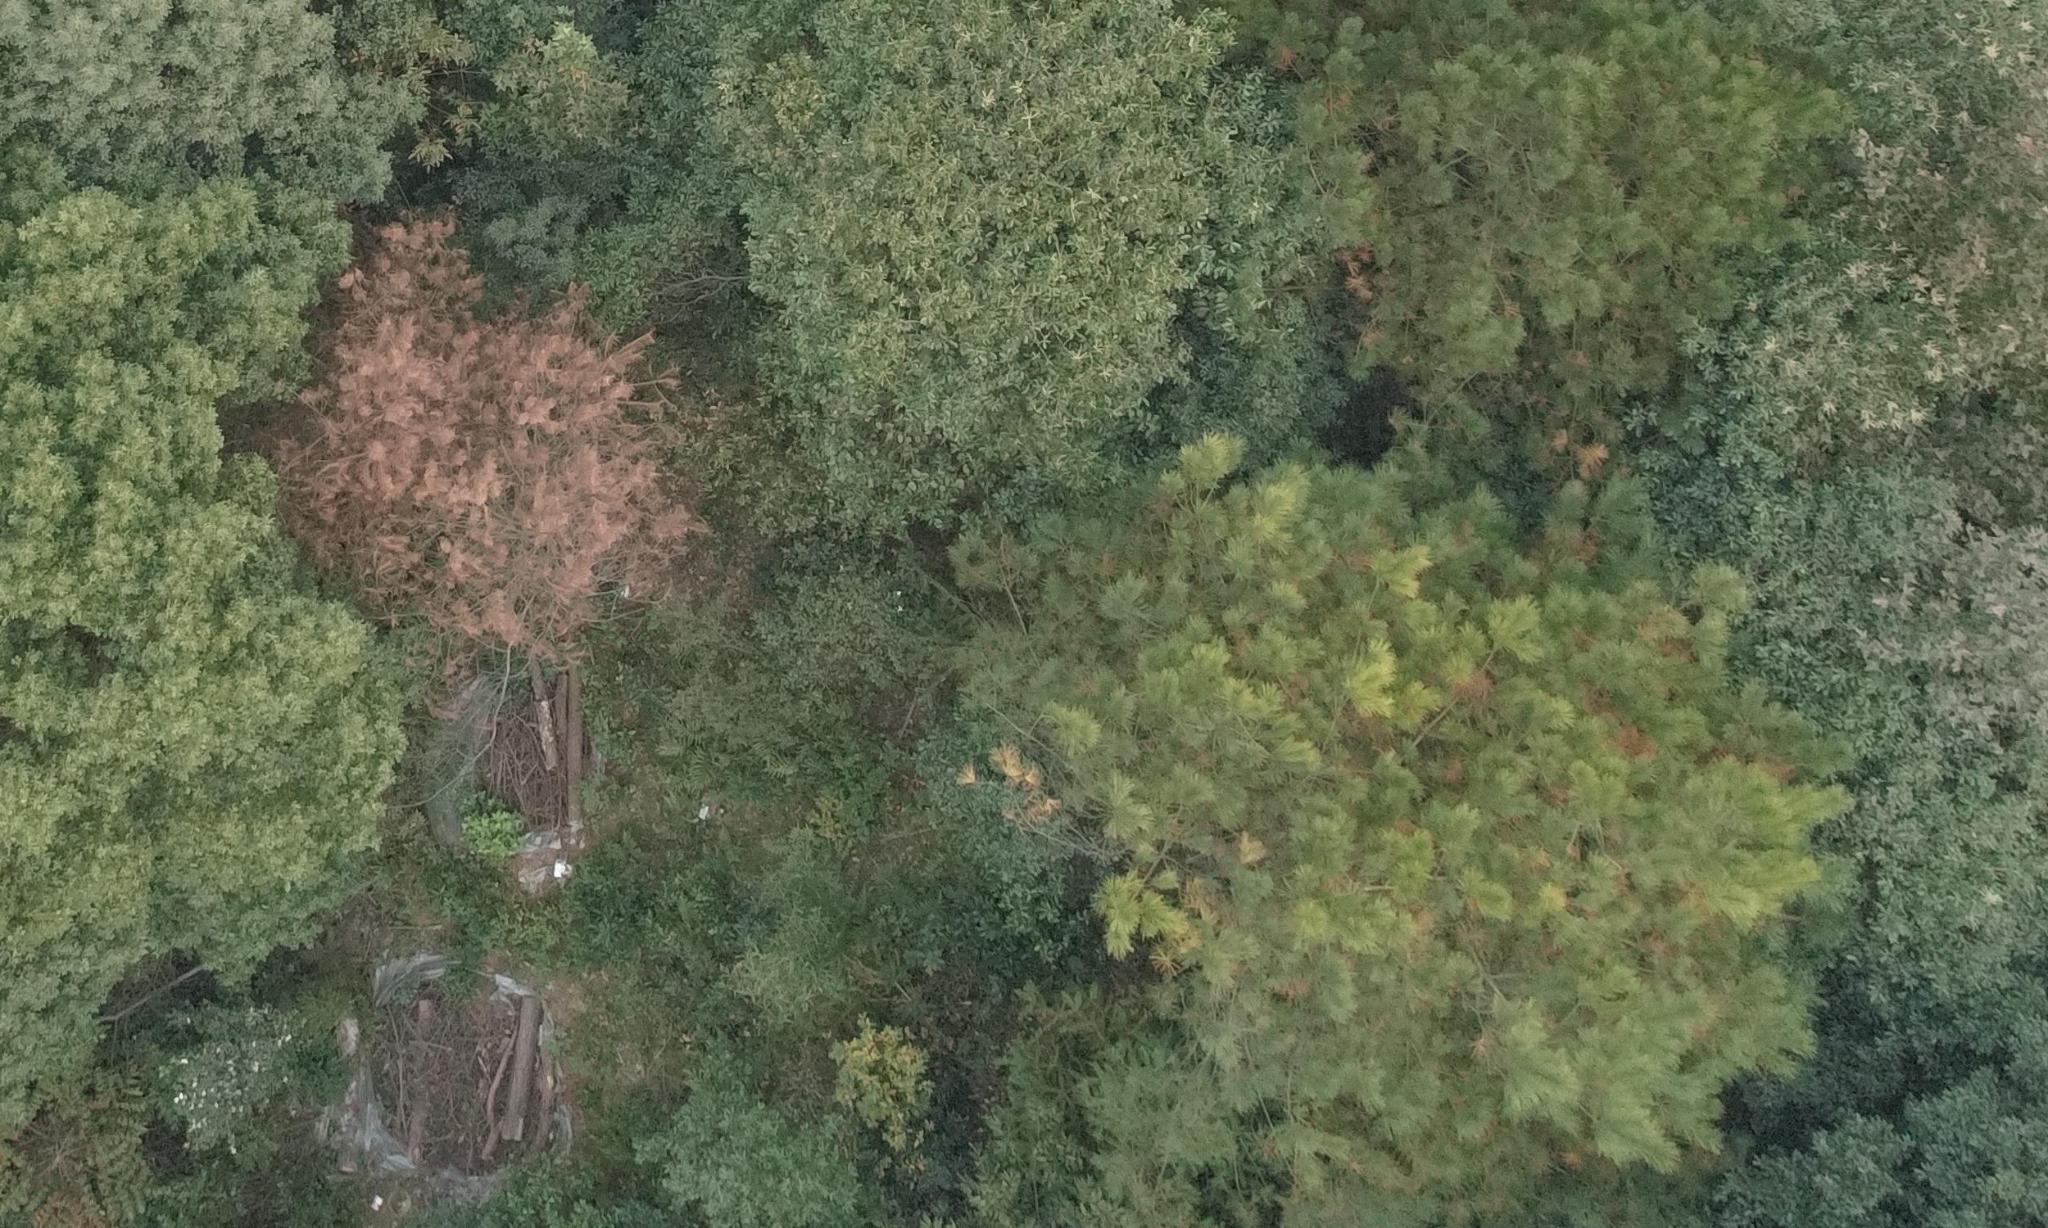heavy: (275, 212, 708, 659)
light: (976, 472, 1794, 1066), (1256, 20, 1652, 453)
